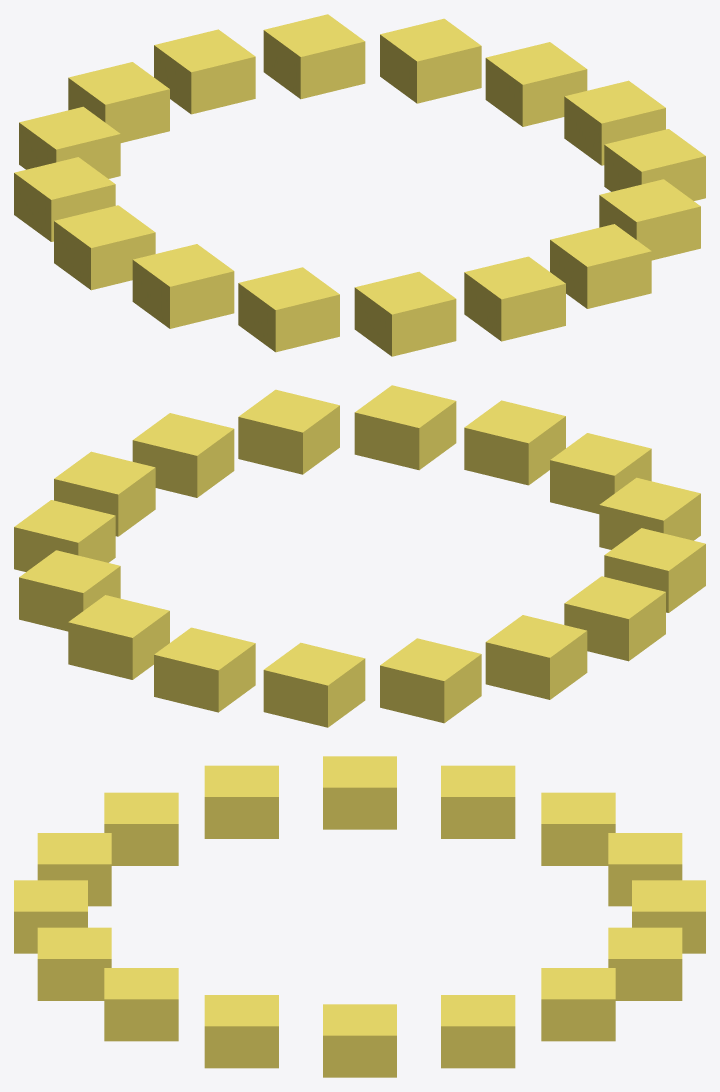
Rendered from aureola.glb.
3 views of the same model, one above another, from view 1: azimuth 30°, elevation 25°; view 2: azimuth 150°, elevation 25°; view 3: azimuth 270°, elevation 25° (orthographic).
Visible parts, largest first — view 1: Aureola; view 2: Aureola; view 3: Aureola.
Part boxes in pixels (bbox=[...]): Aureola: bbox=[14, 14, 705, 356]; Aureola: bbox=[14, 385, 705, 727]; Aureola: bbox=[14, 756, 705, 1077].
Bounding box in the file's own units: 0.642 × 0.045 × 0.672.
